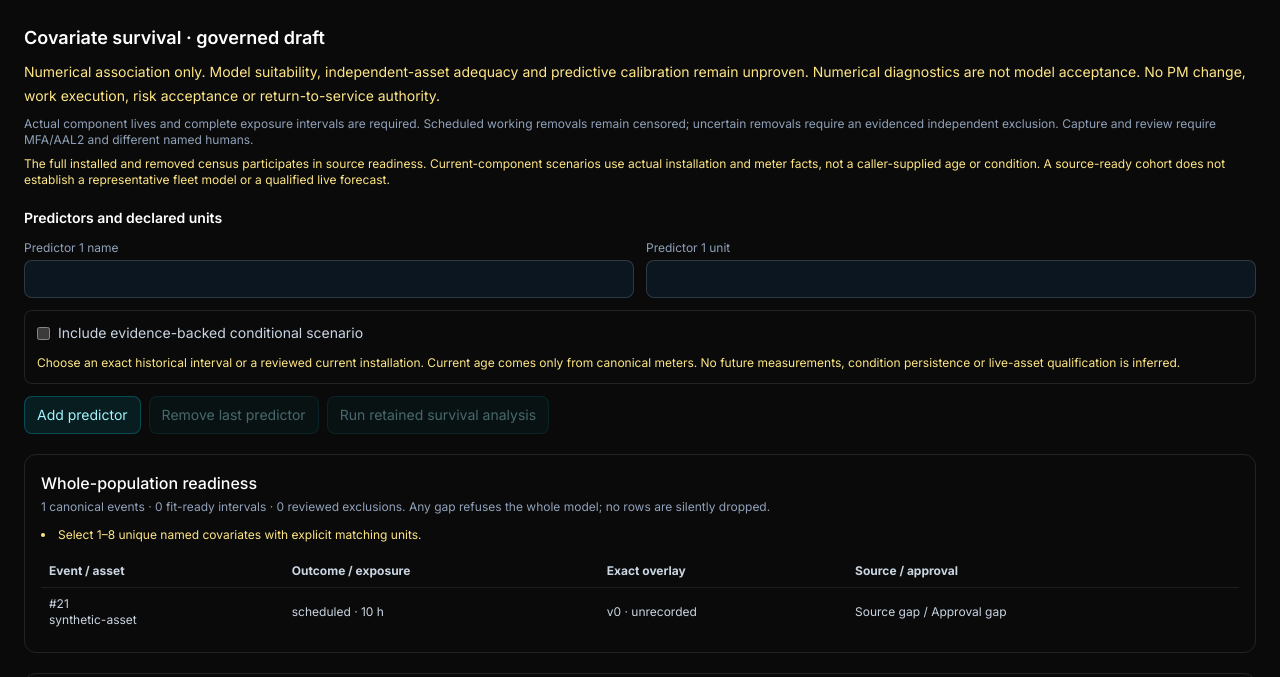
Test: governed covariate survival workbench › never pre-fills scenario exposure or sends an incomplete scenario to the service
The image size is (1280, 677).
Check: the heading "Whole-population readiness" is shown, box x1=41 y1=473 x2=257 y2=493
Step 1. Type "synthetic_load" into the field labelled "Predictor 1 name" → coordinates (329, 279), box x1=24 y1=260 x2=634 y2=298
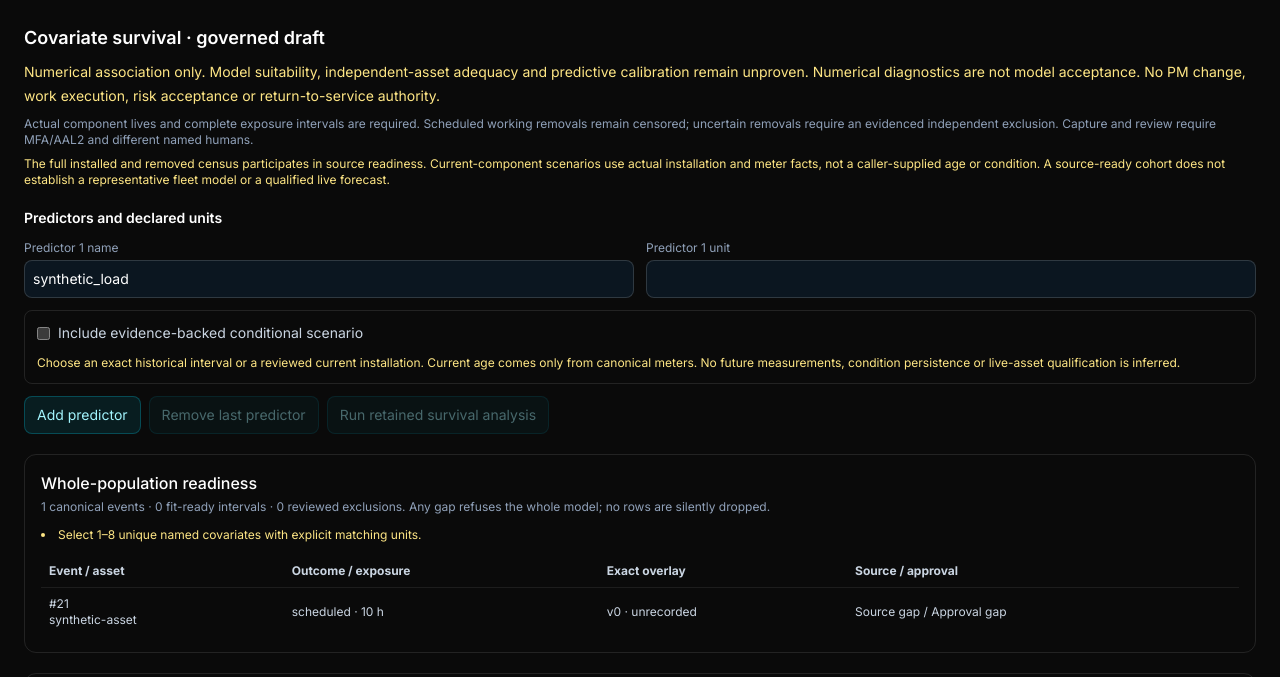
Step 2. Type "ratio" into the field labelled "Predictor 1 unit" → coordinates (951, 279), box x1=646 y1=260 x2=1256 y2=298
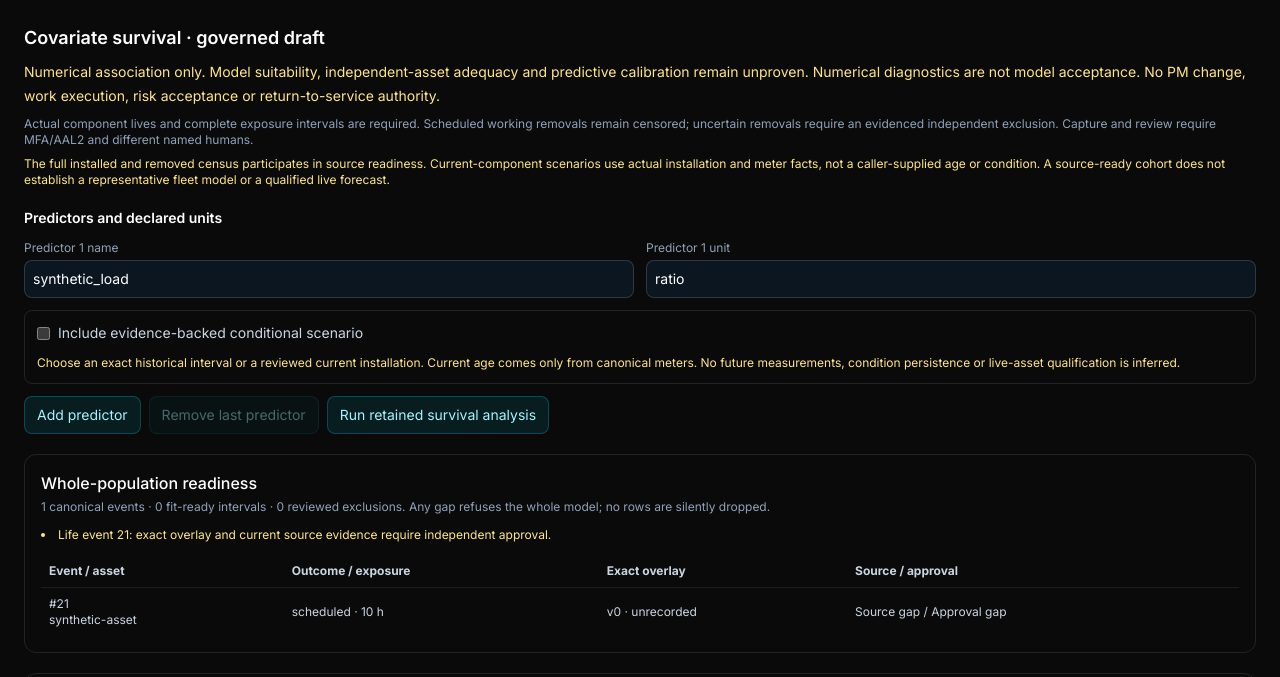
Step 3. Click the checkbox labelled "Include evidence-backed conditional scenario" → coordinates (44, 333), box x1=37 y1=326 x2=50 y2=340
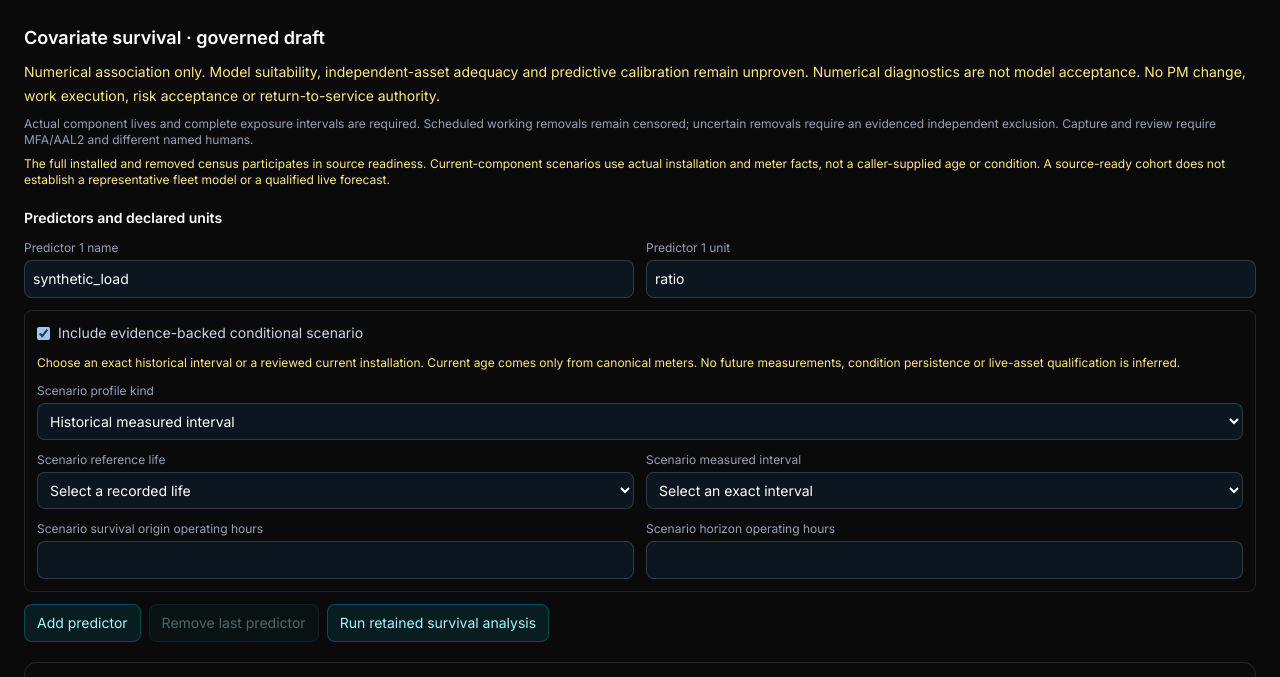
Check: the number field labelled "Scenario survival origin operating hours" is not empty, box x1=37 y1=541 x2=634 y2=579
Check: the number field labelled "Scenario horizon operating hours" is not empty, box x1=646 y1=541 x2=1243 y2=579
Step 4. Click the button "Run retained survival analysis" → coordinates (438, 623), box x1=327 y1=604 x2=549 y2=642
(page scrolled)
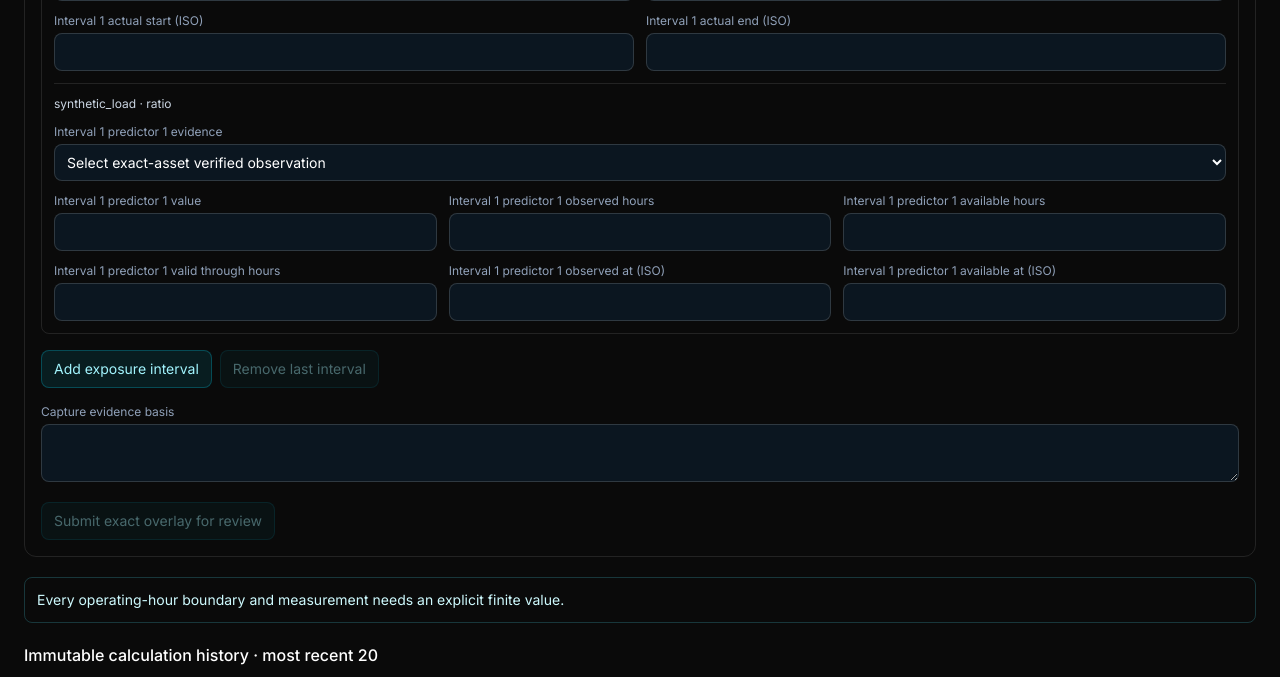
Check: the text "Every operating-hour boundary and measurement needs an explicit finite value." is shown, box x1=24 y1=577 x2=1256 y2=623
